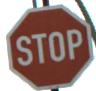Stop sign: (0, 0, 95, 90)
